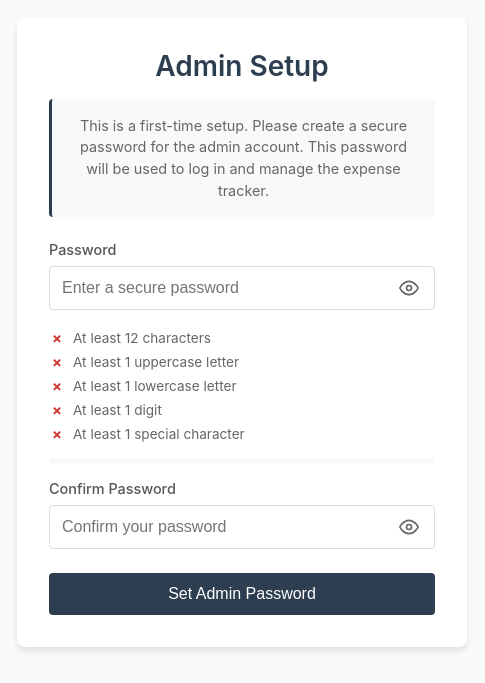
AdminSetupPage › Form validation › shows error when passwords do not match
The image size is (485, 683).
Type "ValidPass123!" into the password field labelled "Password". click: (242, 288)
box: [49, 266, 435, 310]
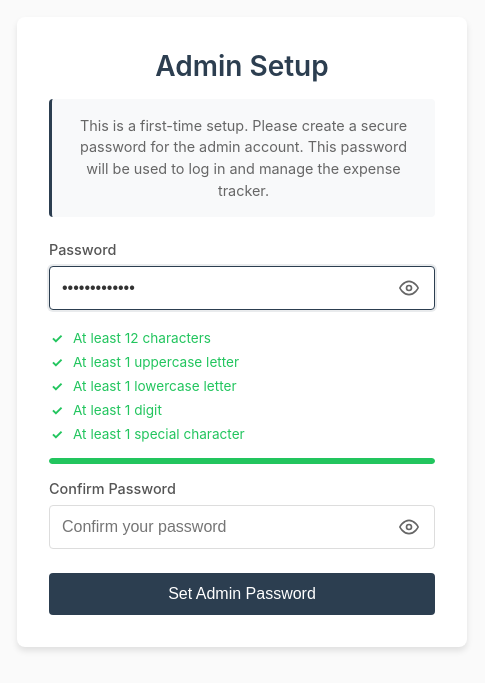
Type "DifferentPass123!" into the password field labelled "Confirm Password". click: (242, 527)
box: [49, 505, 435, 549]
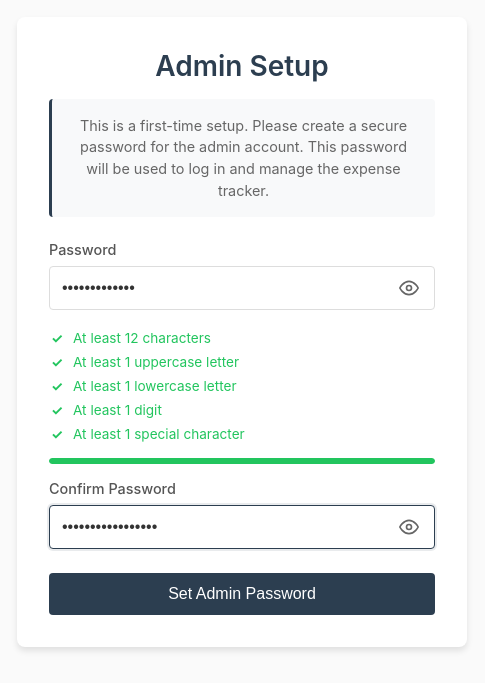
Click the button "Set Admin Password". click: (242, 594)
box: [49, 573, 435, 615]
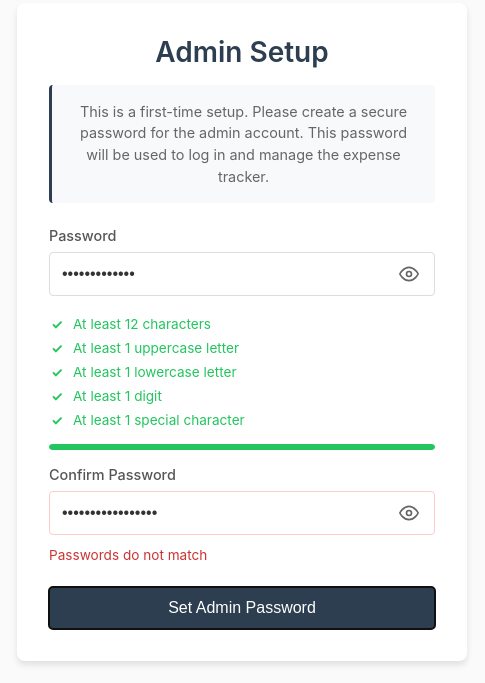
Expected: the text "Passwords do not match" is shown, [49, 547, 207, 563]
